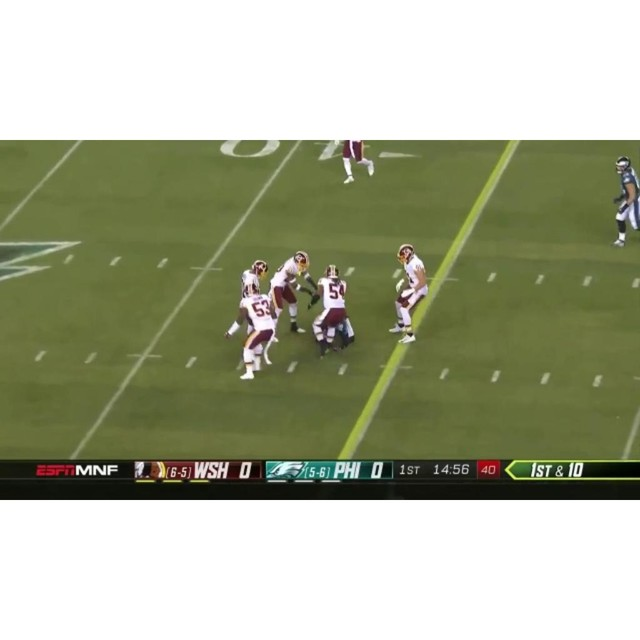american-football-player: (226, 282, 278, 382), (309, 266, 354, 358), (389, 245, 429, 342), (268, 252, 314, 336), (224, 261, 268, 341), (609, 158, 640, 250), (341, 140, 374, 184)
